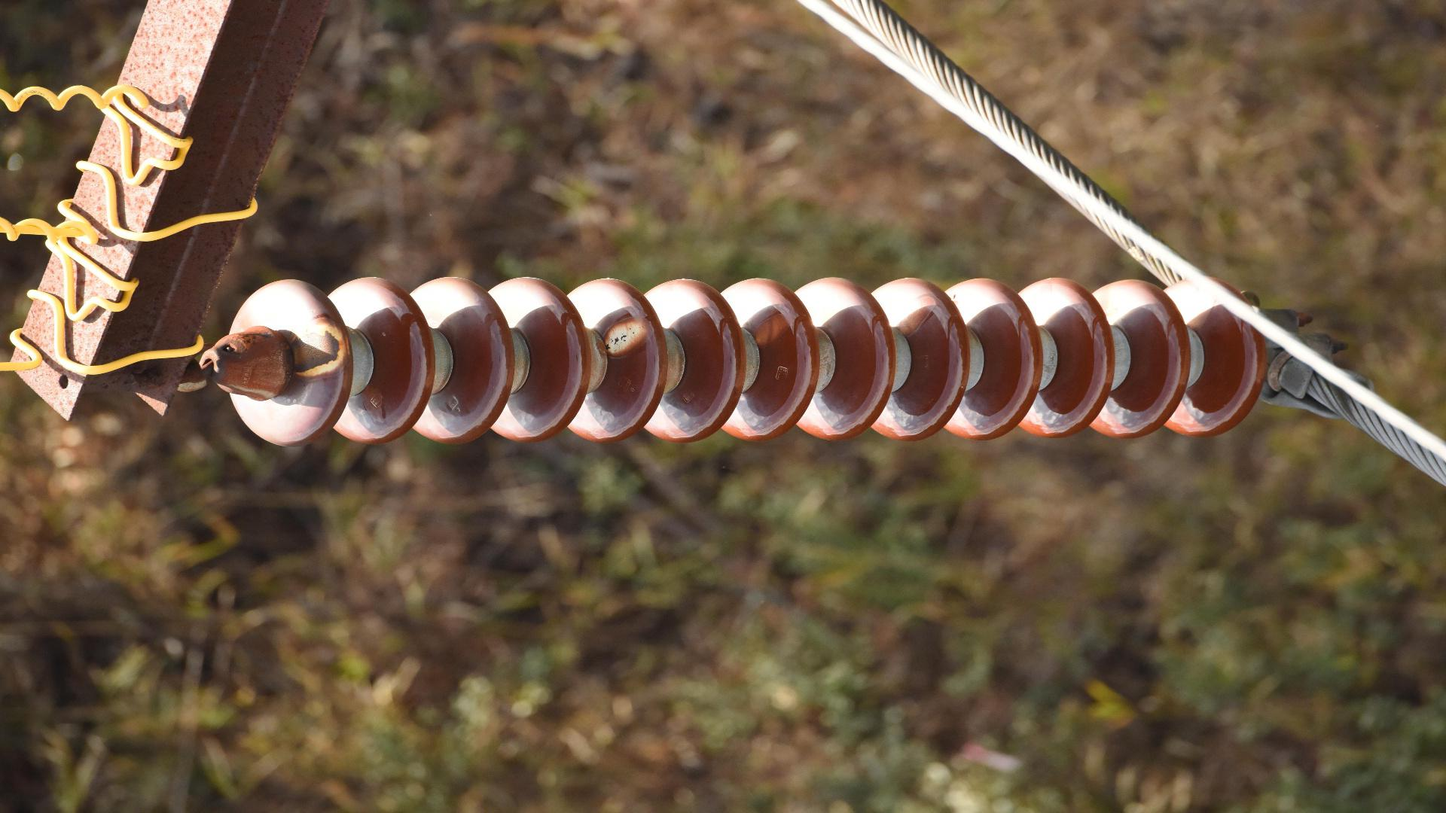insulator: (218, 271, 1270, 454)
insulator_flashover: (288, 315, 349, 377), (602, 315, 655, 357), (896, 293, 939, 337), (753, 310, 793, 346)
